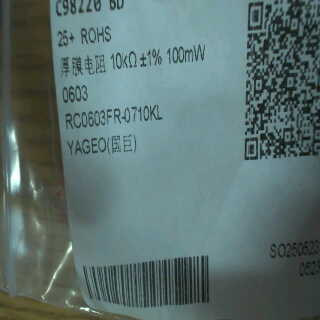10kR: (108, 48, 138, 74)
